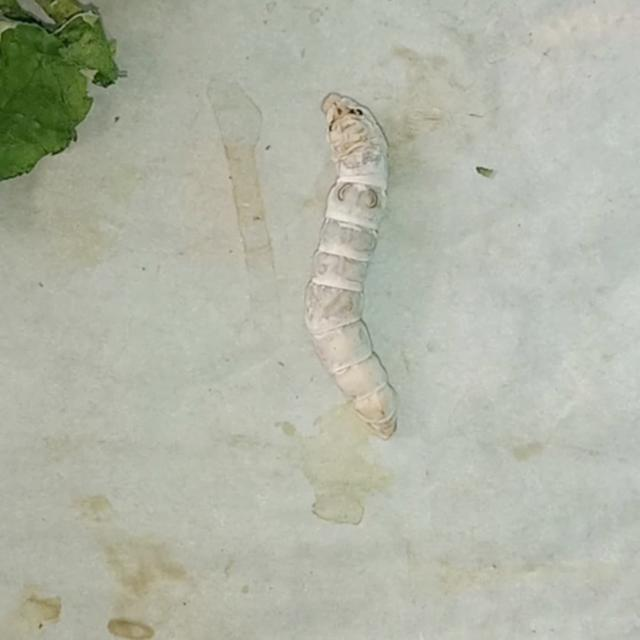Grasserie: (288, 70, 467, 468)
